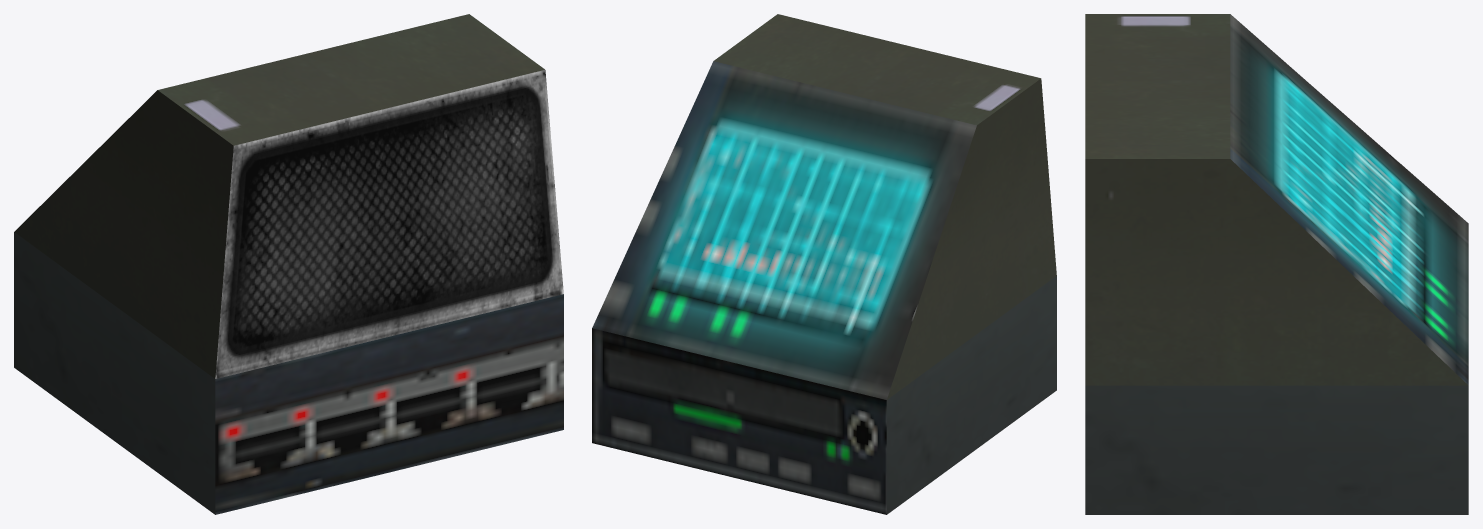
Rendered from Controller_01.fbx.
3 renders of one model, left to right at view 1: azimuth 30°, elevation 25°; view 2: azimuth 150°, elevation 25°; view 3: azimuth 270°, elevation 25°, orthographic. The views are drawn at different scales.
Visible parts, largest first — view 1: Controller_01; view 2: Controller_01; view 3: Controller_01.
Part boxes in pixels (x1,y1,x2,y2): Controller_01: (14, 14, 563, 514); Controller_01: (592, 14, 1056, 514); Controller_01: (1085, 14, 1468, 514).
Size of the model in its own units: 30.12 by 30.12 by 30.12.
